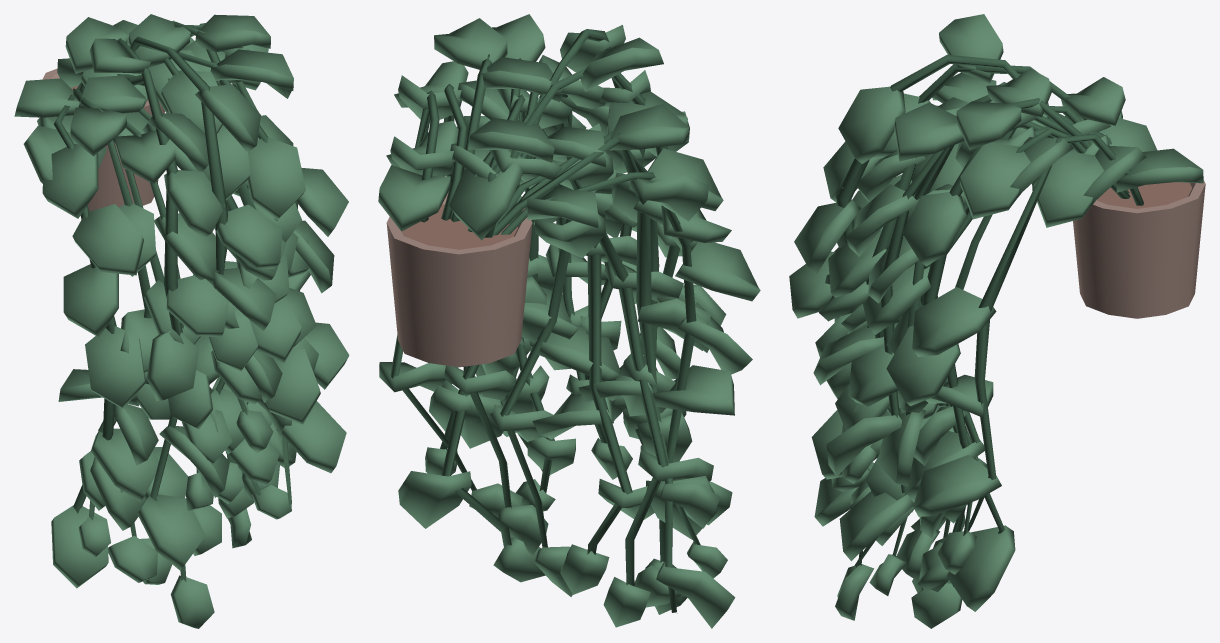
File: flower_019.fbx
The picture shows the model from 3 angles, left to right: view 1: azimuth 30°, elevation 25°; view 2: azimuth 150°, elevation 25°; view 3: azimuth 270°, elevation 25°; orthographic projection. The views are drawn at different scales.
Visible parts, largest first — view 1: flower_019; view 2: flower_019; view 3: flower_019.
Boxes of the visible parts, x1,y1,x2,y2 form: flower_019: (14, 14, 349, 628); flower_019: (378, 14, 760, 628); flower_019: (789, 14, 1205, 628).
Size of the model in its own units: 91.41 by 103 by 160.
